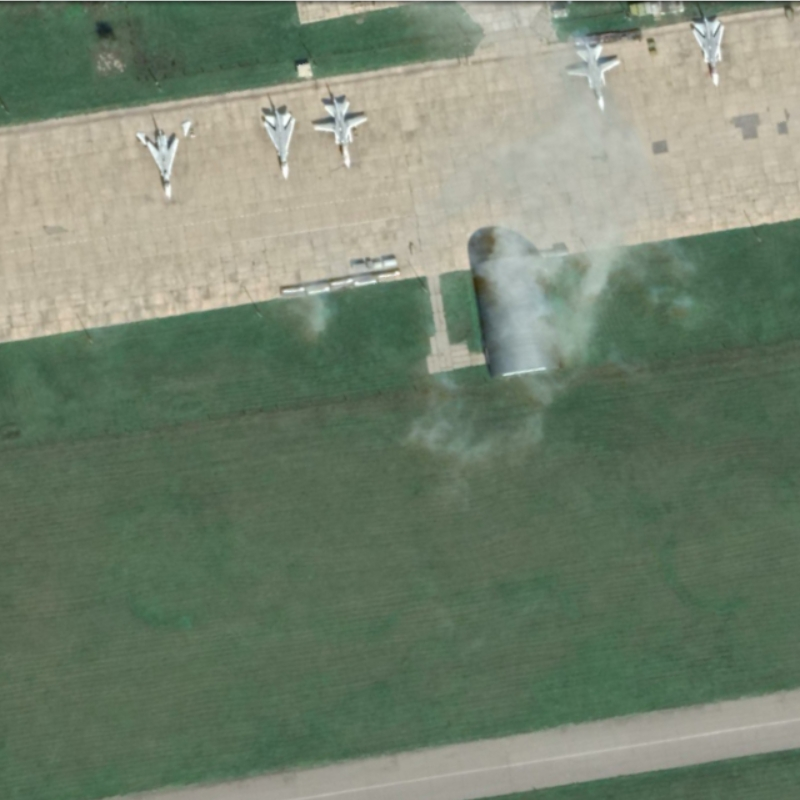A20: (309, 93, 371, 172), (564, 41, 624, 113), (258, 104, 302, 184), (686, 16, 731, 89), (142, 125, 183, 202)
